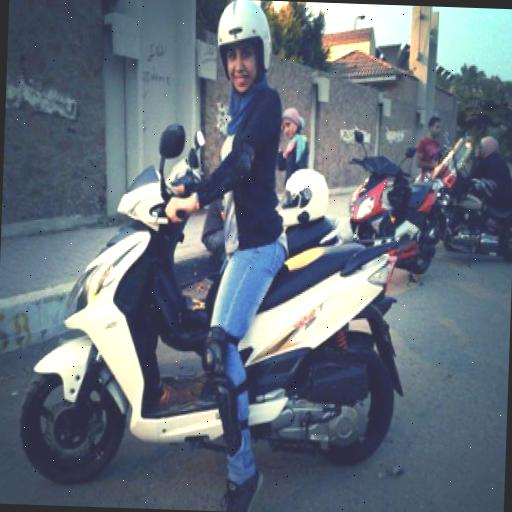helmet: (62, 0, 299, 501)
